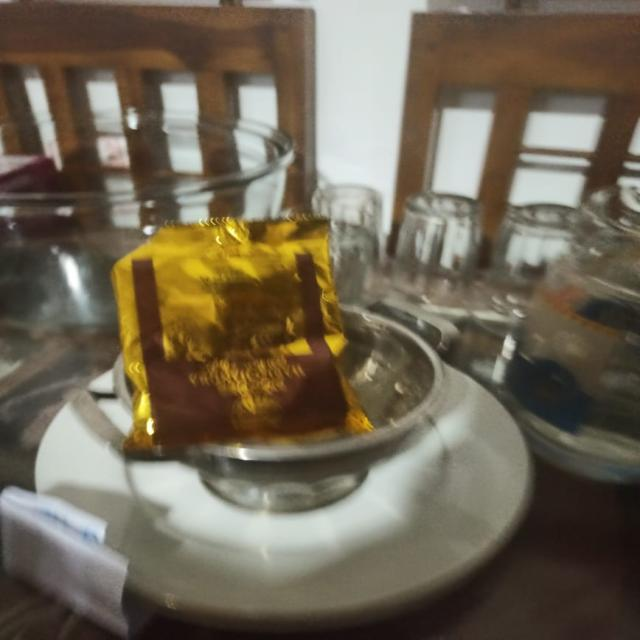Harischandra Coffee: (81, 208, 378, 496)
